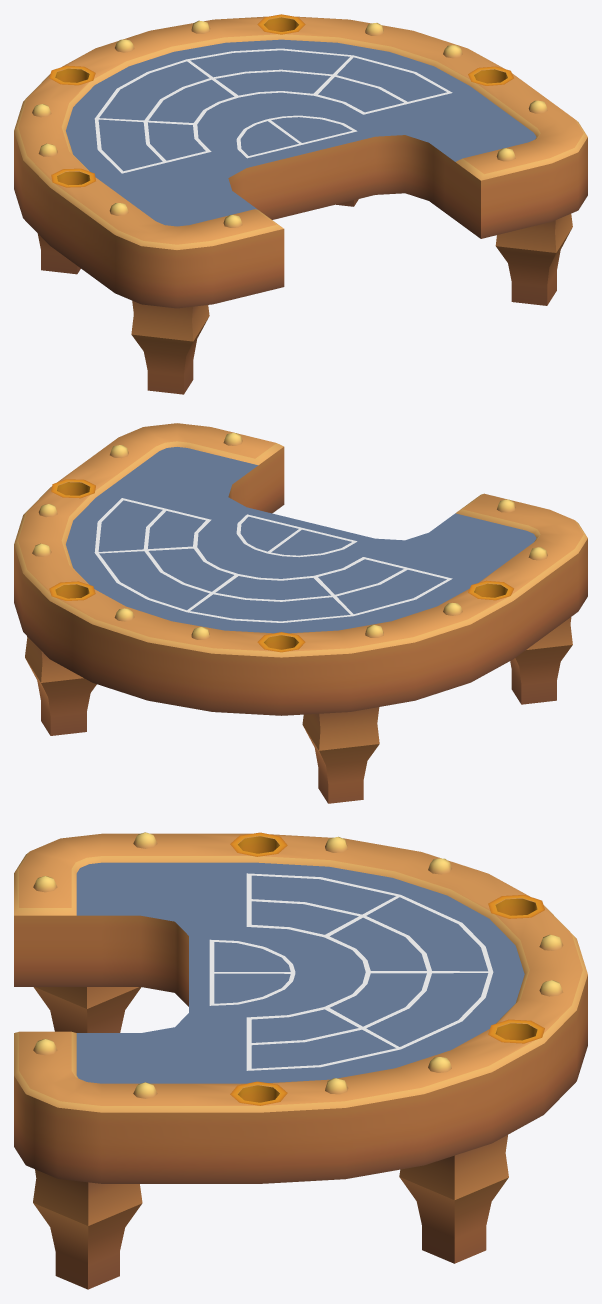
Rendered from Baccarat_03.fbx.
3 views of the same model, one above another, from view 1: azimuth 30°, elevation 25°; view 2: azimuth 150°, elevation 25°; view 3: azimuth 270°, elevation 25° (orthographic). The views are drawn at different scales.
Parts seen in each view (by area): view 1: Baccarat_03; view 2: Baccarat_03; view 3: Baccarat_03.
Part boxes in pixels (bbox=[...]): Baccarat_03: bbox=[14, 14, 587, 394]; Baccarat_03: bbox=[14, 423, 587, 803]; Baccarat_03: bbox=[14, 832, 587, 1289].
Bounding box in the file's own units: 2.61 × 2.29 × 0.9228.
